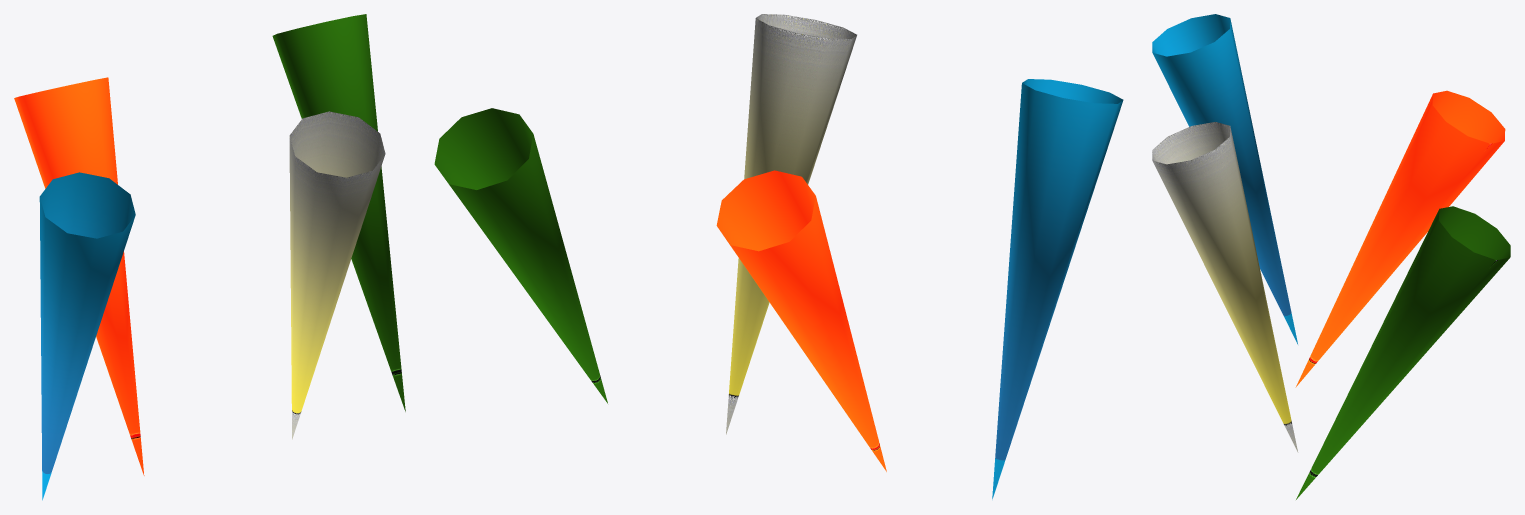
Rendered from astd.fbx.
3 views of the same model, side by side, from view 1: azimuth 30°, elevation 25°; view 2: azimuth 150°, elevation 25°; view 3: azimuth 270°, elevation 25° (orthographic). The views are drawn at different scales.
Parts seen in each view (by area): view 1: polygon2, polygon2.004, polygon2.002, polygon2.003; view 2: polygon2.004, polygon2.003, polygon2.002, polygon2; view 3: polygon2, polygon2.002, polygon2.003, polygon2.004.
Part boxes in pixels (x1,y1,x2,y2): polygon2: (289, 111, 385, 439); polygon2.004: (39, 172, 135, 500); polygon2.002: (272, 14, 405, 411); polygon2.003: (14, 77, 144, 475); polygon2.004: (992, 79, 1123, 499); polygon2.003: (716, 170, 886, 471); polygon2.002: (434, 108, 607, 403); polygon2: (726, 14, 856, 434); polygon2: (1152, 122, 1298, 452); polygon2.002: (1296, 206, 1510, 499); polygon2.003: (1295, 90, 1505, 387); polygon2.004: (1152, 14, 1297, 344).
Bounding box in the file's own units: 87375 × 62594 × 64315.
4 materials, 4 textured.
